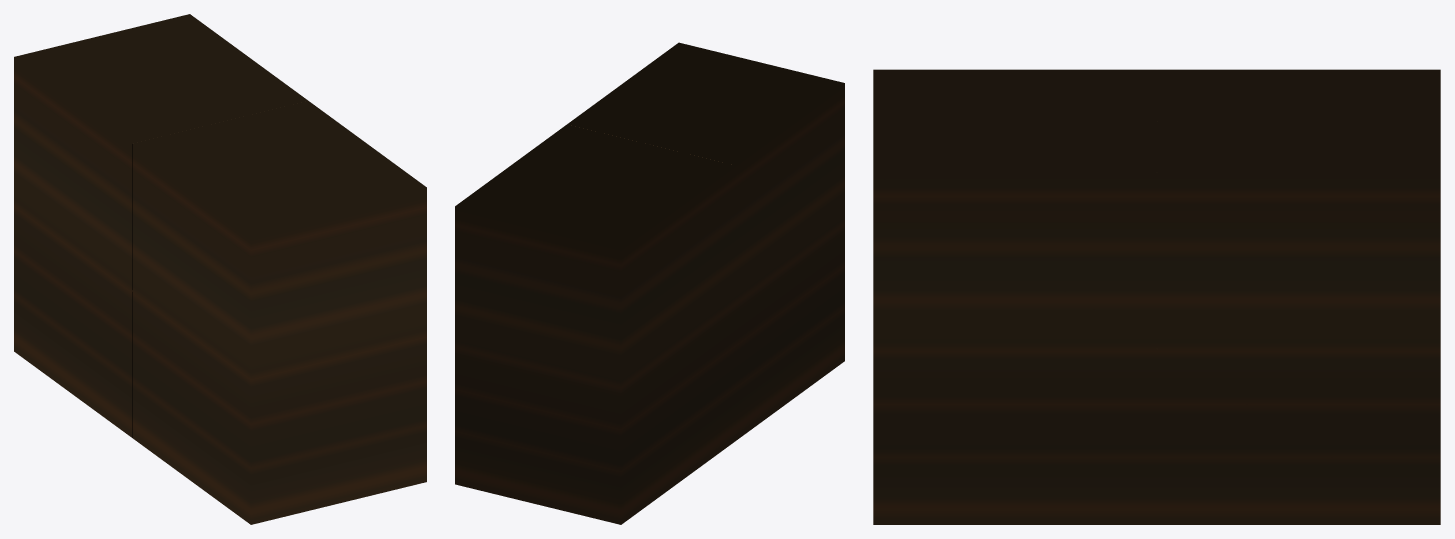
Rendered from trap_t15_dog_patrol_hazard.glb.
The picture shows the model from 3 angles, left to right: view 1: azimuth 30°, elevation 25°; view 2: azimuth 150°, elevation 25°; view 3: azimuth 270°, elevation 25°; orthographic projection. The views are drawn at different scales.
Parts seen in each view (by area): view 1: trap_t15_dog_patrol_hazard; view 2: trap_t15_dog_patrol_hazard; view 3: trap_t15_dog_patrol_hazard.
Boxes of the visible parts, bbox=[...] form: trap_t15_dog_patrol_hazard: bbox=[14, 14, 426, 524]; trap_t15_dog_patrol_hazard: bbox=[455, 42, 844, 524]; trap_t15_dog_patrol_hazard: bbox=[873, 69, 1440, 524].
Size of the model in its own units: 0.45 by 0.86 by 1.05.
Materials: 1 (1 with a texture image).
